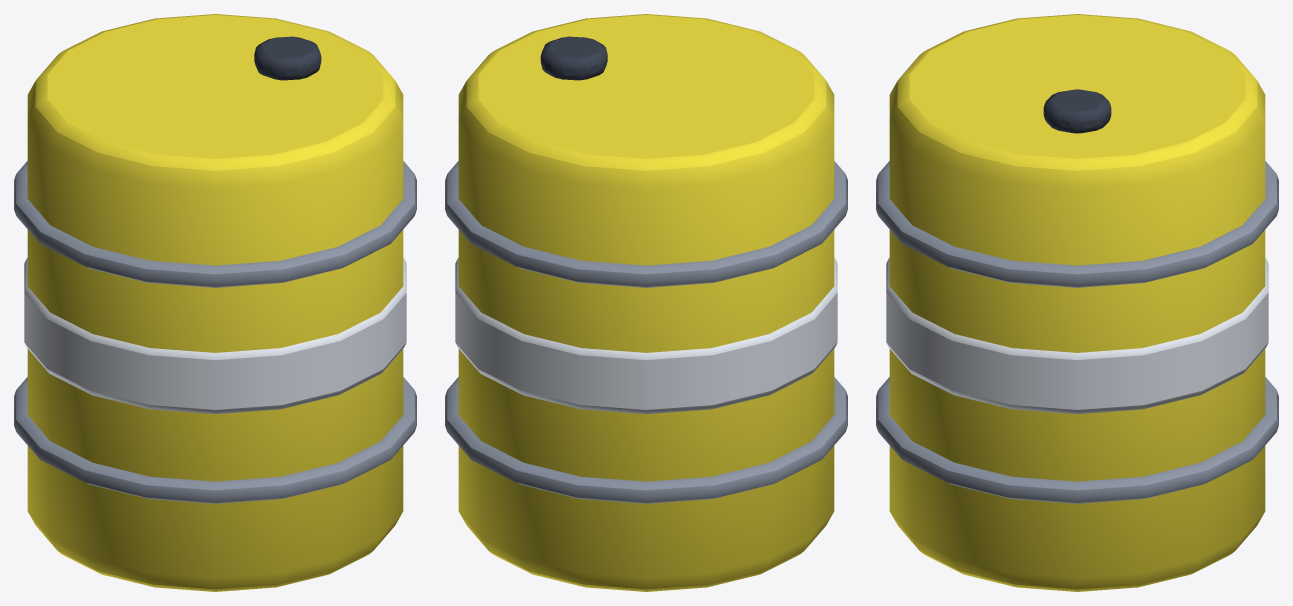
File: ware_schwefelsaeure.fbx
The picture shows the model from 3 angles, left to right: view 1: azimuth 30°, elevation 25°; view 2: azimuth 150°, elevation 25°; view 3: azimuth 270°, elevation 25°; orthographic projection.
Visible parts, largest first — view 1: ware_schwefelsaeure_Koerper; view 2: ware_schwefelsaeure_Koerper; view 3: ware_schwefelsaeure_Koerper.
Boxes of the visible parts, x1,y1,x2,y2 form: ware_schwefelsaeure_Koerper: [14, 14, 416, 591]; ware_schwefelsaeure_Koerper: [445, 14, 847, 591]; ware_schwefelsaeure_Koerper: [876, 14, 1278, 591].
Size of the model in its own units: 0.3432 by 0.42 by 0.338.
